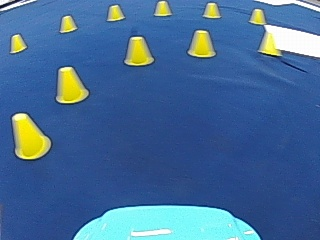cone: (10, 112, 50, 159), (55, 65, 88, 104), (123, 35, 154, 66), (187, 29, 216, 57), (257, 30, 279, 55), (9, 33, 26, 53), (59, 14, 76, 33), (202, 2, 220, 19), (106, 4, 124, 21), (154, 0, 171, 16), (249, 8, 266, 24)
